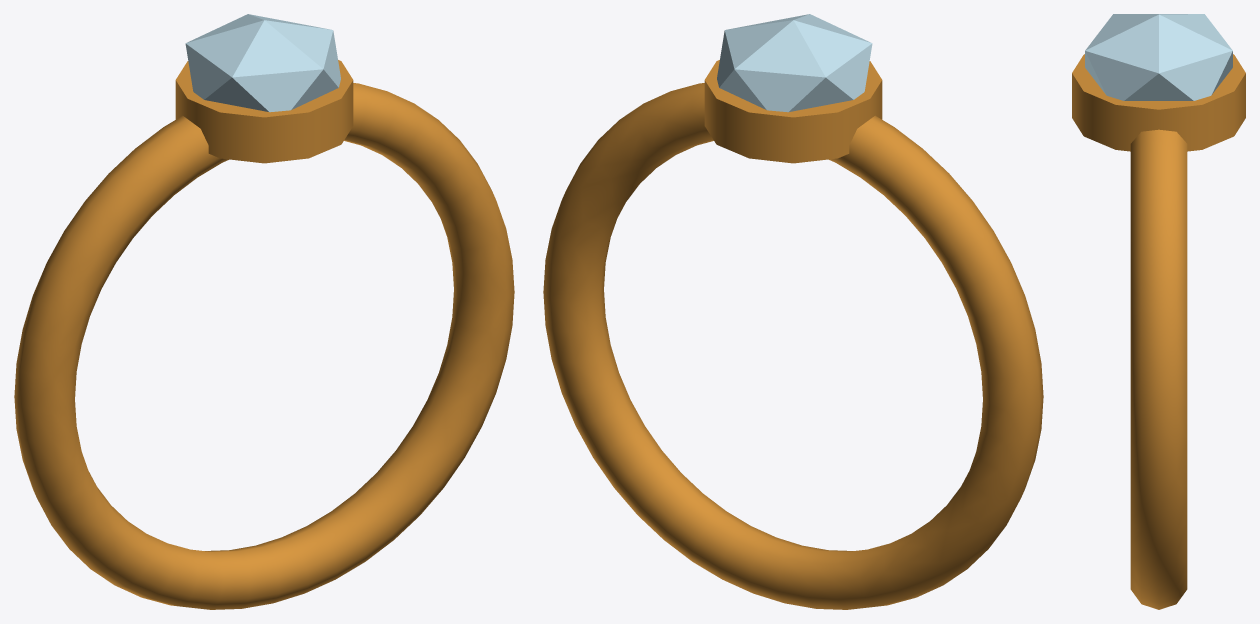
The model's file is BezelRing.obj.
3 renders of one model, left to right at view 1: azimuth 30°, elevation 25°; view 2: azimuth 150°, elevation 25°; view 3: azimuth 270°, elevation 25°, orthographic. The views are drawn at different scales.
Parts seen in each view (by area): view 1: BezelRing_Opaque; view 2: BezelRing_Opaque; view 3: BezelRing_Opaque.
Boxes of the visible parts, box(x1,y1,x2,y2) form: BezelRing_Opaque: box(14, 14, 514, 609); BezelRing_Opaque: box(543, 14, 1043, 609); BezelRing_Opaque: box(1072, 14, 1245, 609).
Bounding box in the file's own units: 0.0224 × 0.0253 × 0.007.
